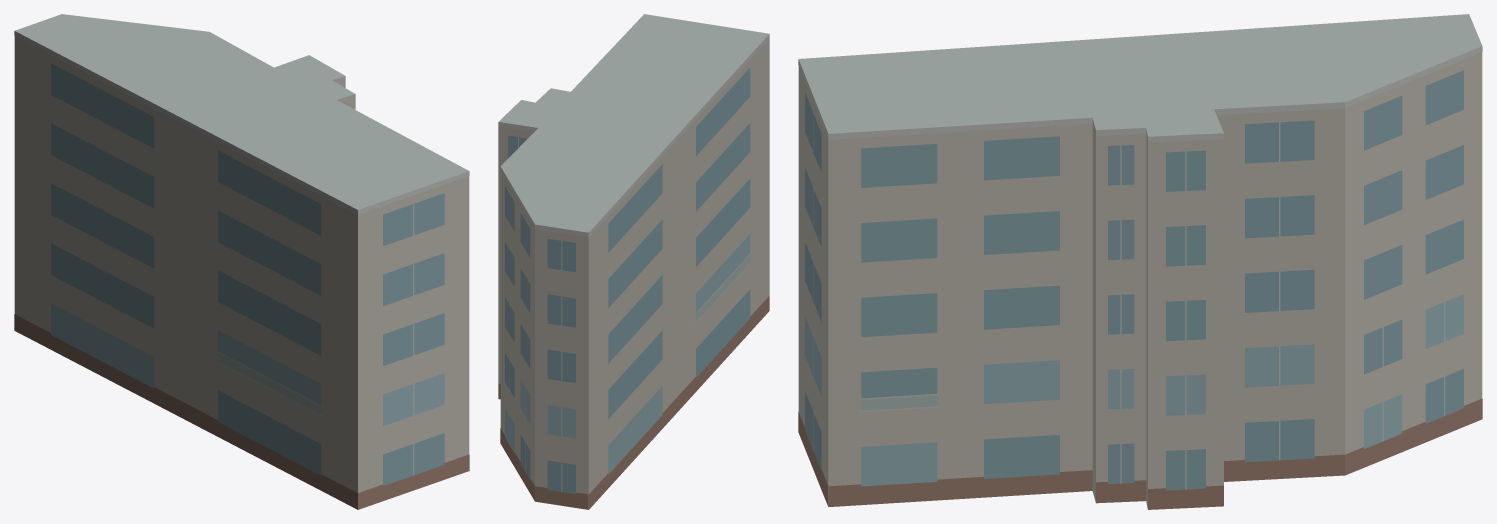
Rendered from survey-upis-32925151.glb.
The picture shows the model from 3 angles, left to right: view 1: azimuth 30°, elevation 25°; view 2: azimuth 150°, elevation 25°; view 3: azimuth 270°, elevation 25°; orthographic projection. The views are drawn at different scales.
Parts seen in each view (by area): view 1: survey-upis-32925151.tmp; view 2: survey-upis-32925151.tmp; view 3: survey-upis-32925151.tmp.
Part boxes in pixels (x1,y1,x2,y2): survey-upis-32925151.tmp: [14, 14, 469, 509]; survey-upis-32925151.tmp: [498, 14, 769, 509]; survey-upis-32925151.tmp: [798, 14, 1482, 509].
Bounding box in the file's own units: 10.73 × 15.2 × 25.26.
